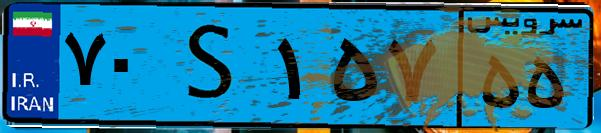0: (110, 28, 158, 98)
1: (270, 28, 330, 110)
5: (330, 28, 385, 110), (475, 38, 525, 113), (525, 38, 570, 115)
7: (385, 28, 445, 110), (57, 26, 110, 100)
S: (158, 12, 270, 120)
